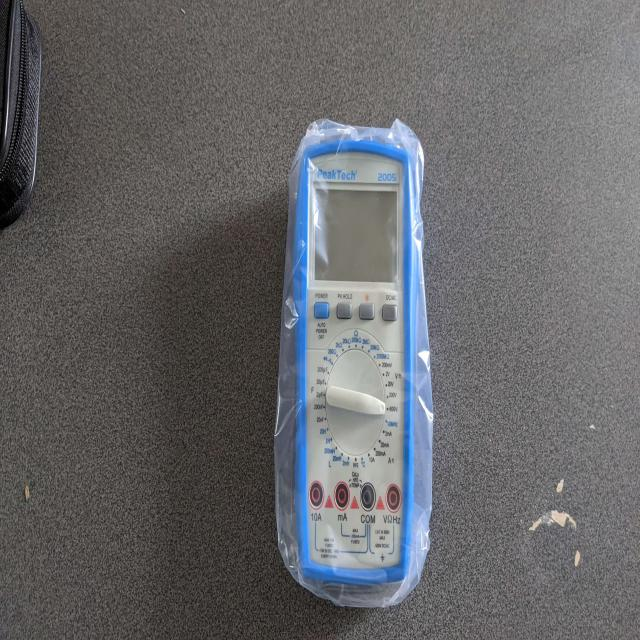Digital Multimeter: (283, 122, 432, 610)
